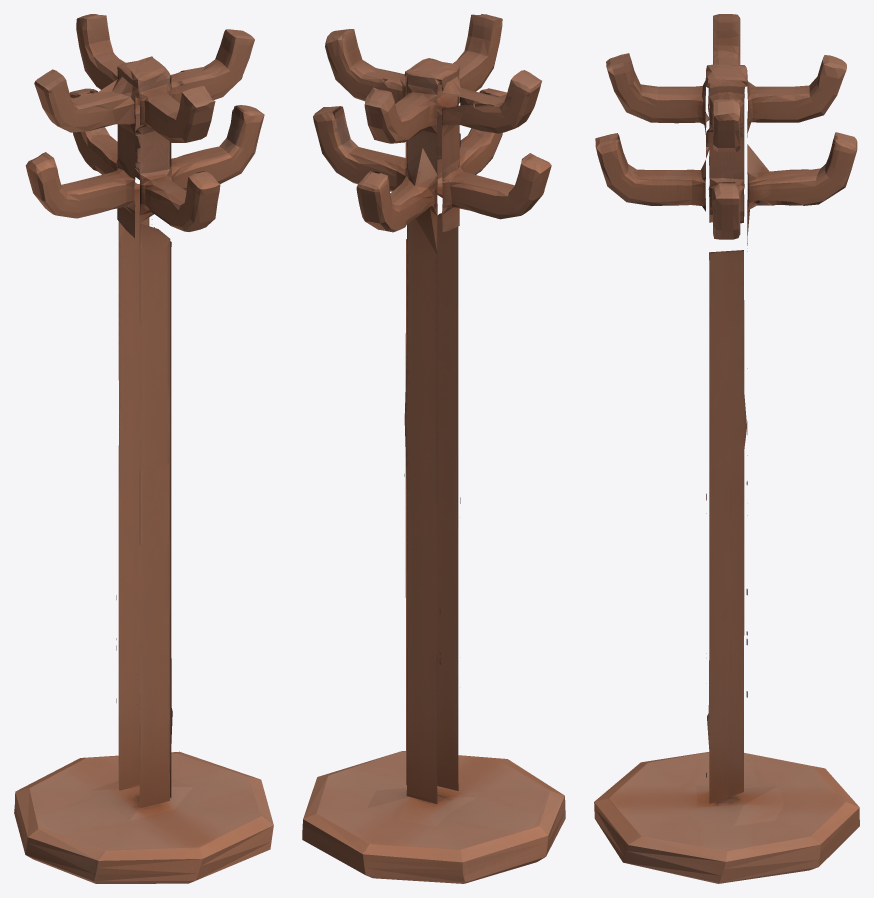
Rendered from coatrack.fbx.
3 views of the same model, side by side, from view 1: azimuth 30°, elevation 25°; view 2: azimuth 150°, elevation 25°; view 3: azimuth 270°, elevation 25° (orthographic).
Parts seen in each view (by area): view 1: Mesh_0; view 2: Mesh_0; view 3: Mesh_0.
Boxes of the visible parts, x1,y1,x2,y2 form: Mesh_0: (14,14,273,883); Mesh_0: (302,14,565,883); Mesh_0: (594,14,859,883).
Bounding box in the file's own units: 2.02 × 6.5 × 2.02.
Materials: 1 (1 with a texture image).
